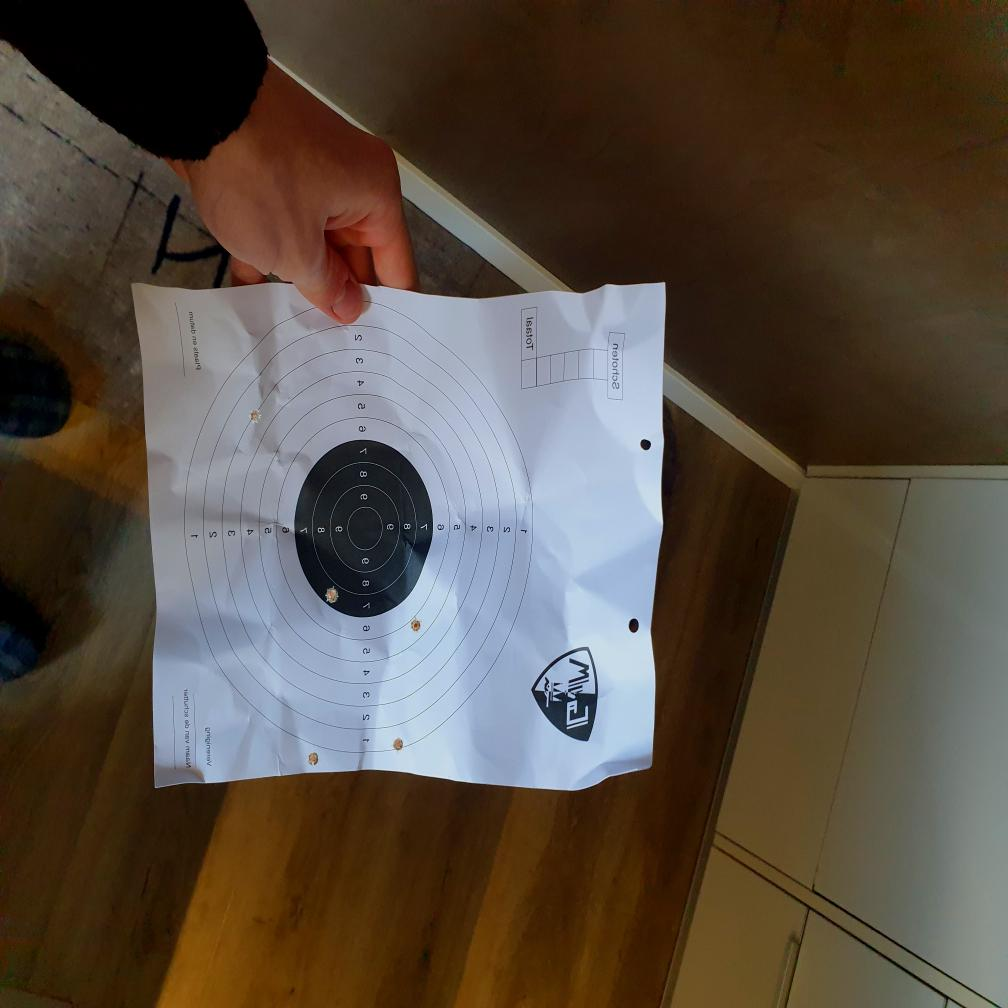0: (307, 752, 321, 766)
1: (392, 737, 404, 752)
3: (248, 408, 260, 424)
5: (411, 616, 422, 633)
7: (326, 586, 338, 604)
Target: (184, 309, 534, 757)
black_contour: (293, 440, 434, 618)
